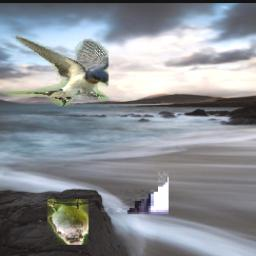Crow: (97, 16, 170, 214)
Sparrow: (48, 200, 90, 246)
Swallow: (3, 35, 109, 107)
